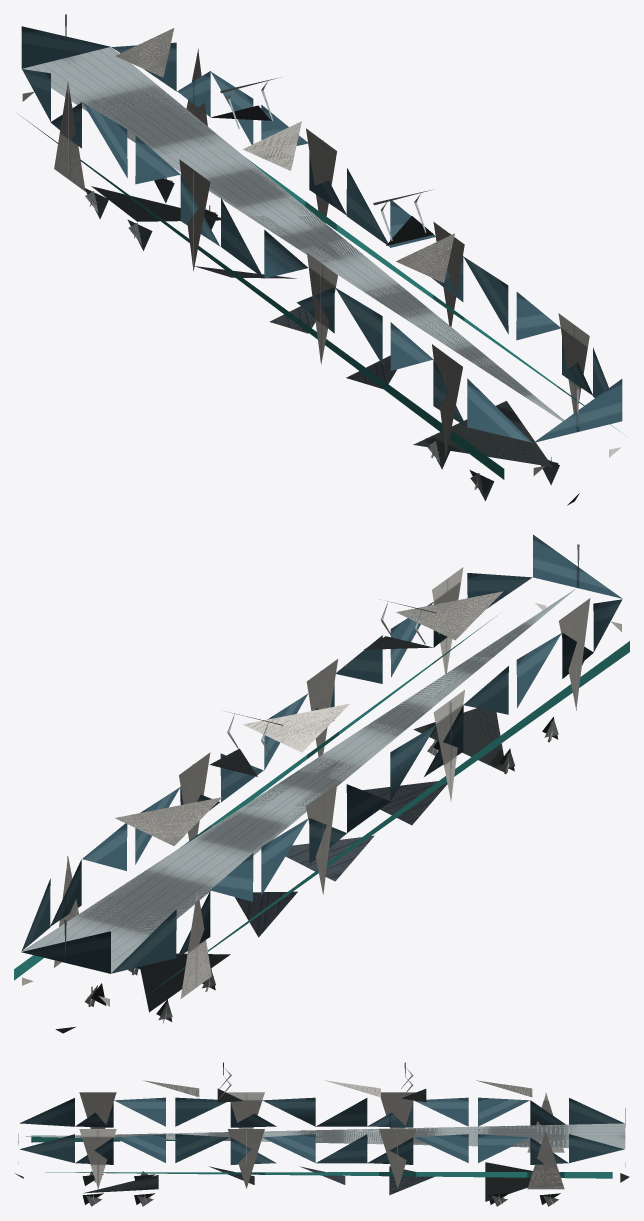
File: commuter_001.lod2.obj
3 views of the same model, one above another, from view 1: azimuth 30°, elevation 25°; view 2: azimuth 150°, elevation 25°; view 3: azimuth 270°, elevation 25° (orthographic). The views are drawn at different scales.
Parts seen in each view (by area): view 1: commuter_001; view 2: commuter_001; view 3: commuter_001.
Part boxes in pixels (<box>): commuter_001: <box>18,14,622,505</box>; commuter_001: <box>14,534,629,1033</box>; commuter_001: <box>15,1062,629,1206</box>.
Size of the model in its own units: 2.94 by 4.58 by 20.35.
Materials: 1 (1 with a texture image).
